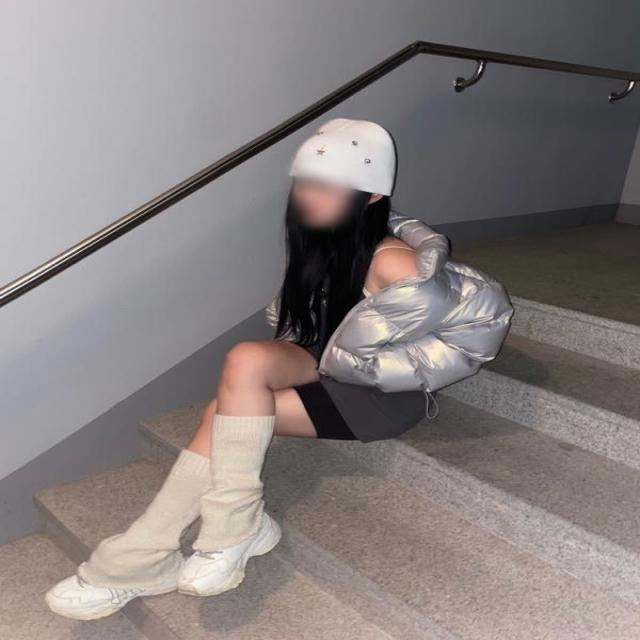padding: (263, 203, 517, 396)
skirt: (285, 331, 436, 443)
